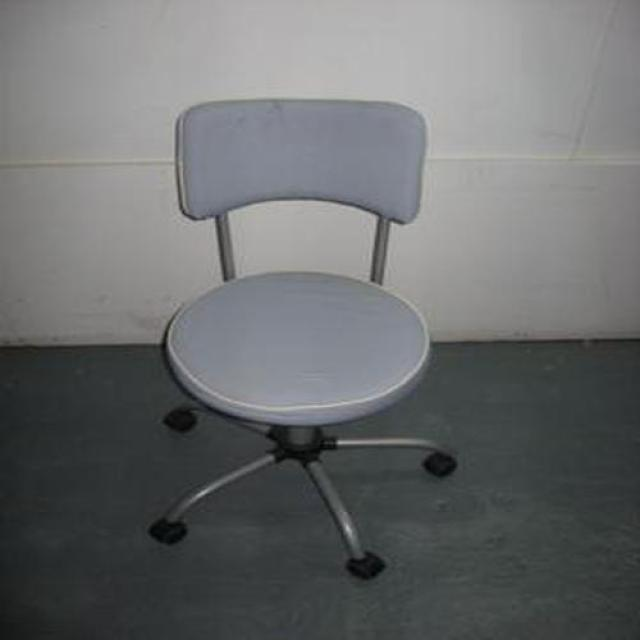table: (146, 100, 458, 582)
